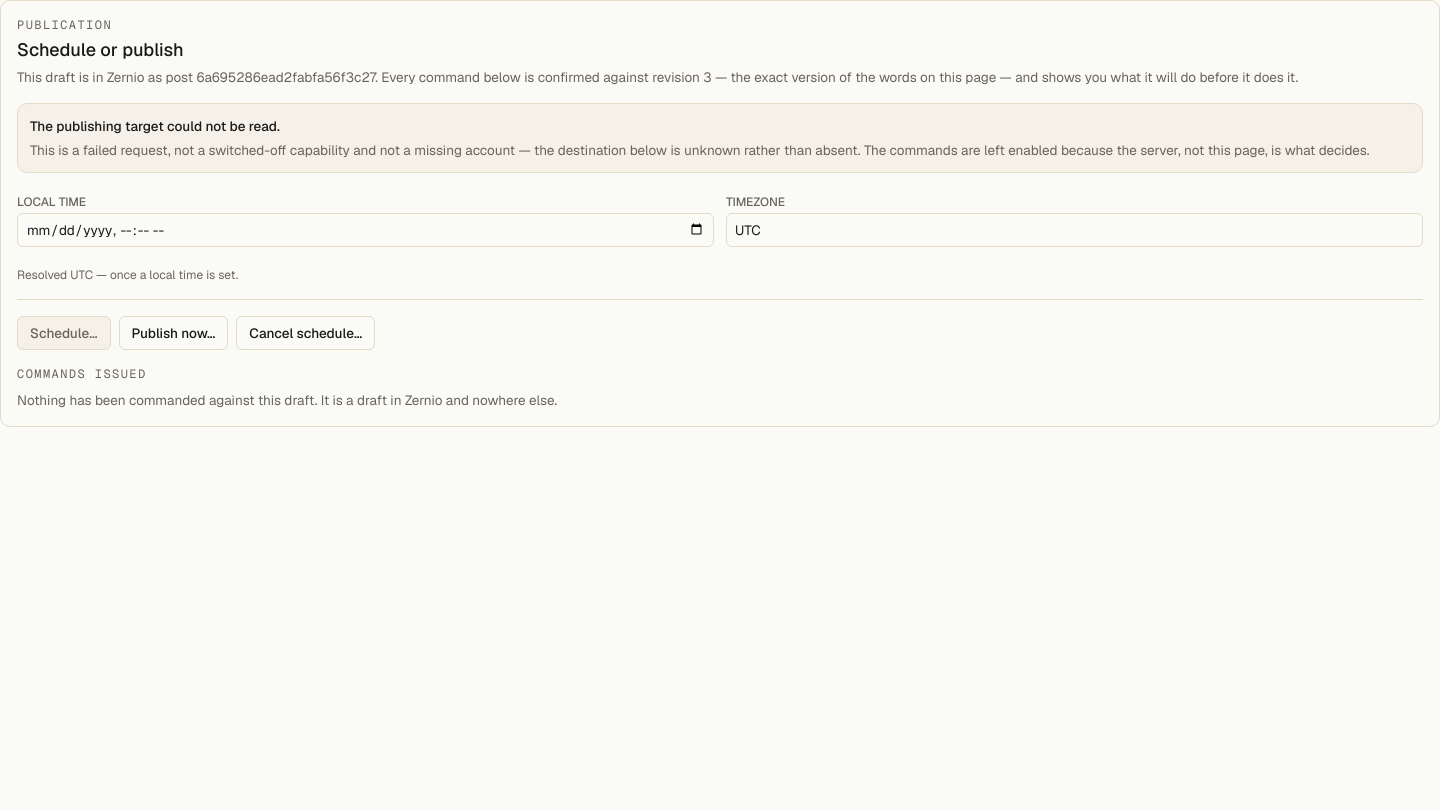
Test: the confirmation step › prints — for the account when the destination could not be read
The image size is (1440, 810).
Click the button "Publish now…". click: coordinates (173, 333)
box: 118,316 -> 228,350
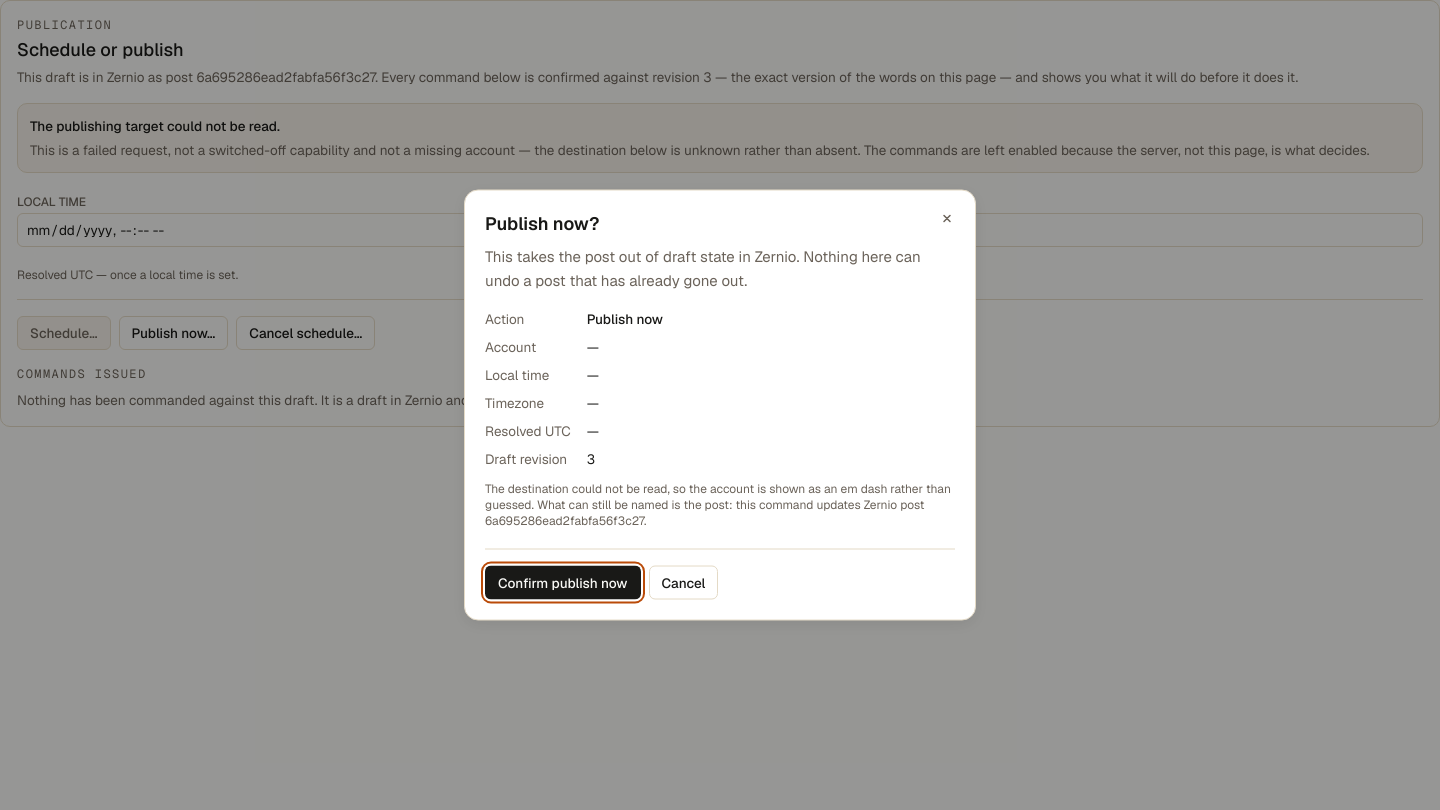
Check: the text "destination could not be read" is shown, box 485,480 -> 951,512
Check: the text "6a695286ead2fabfa56f3c27" is shown, box 485,512 -> 644,528
